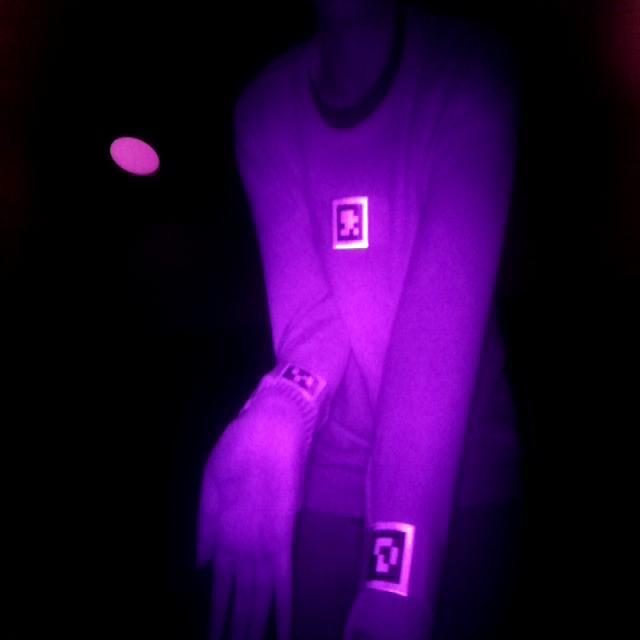Apriltags: (330, 194, 370, 250), (277, 359, 329, 402)
